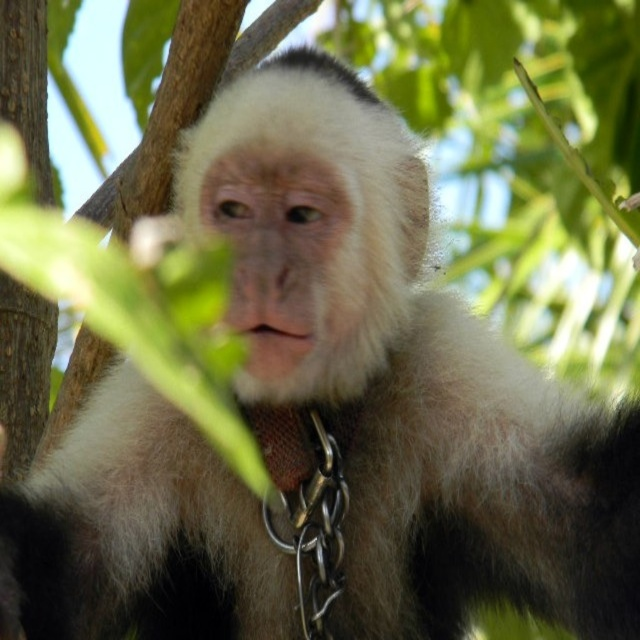Monkey: (0, 45, 639, 639)
